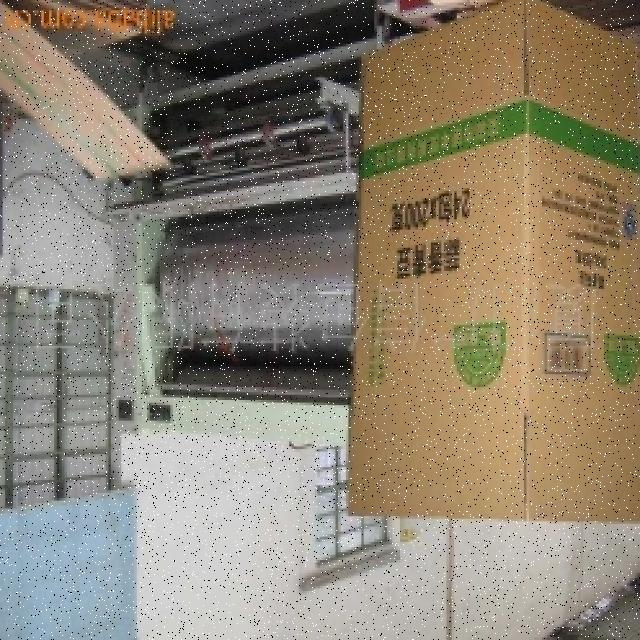box: (349, 0, 640, 540)
